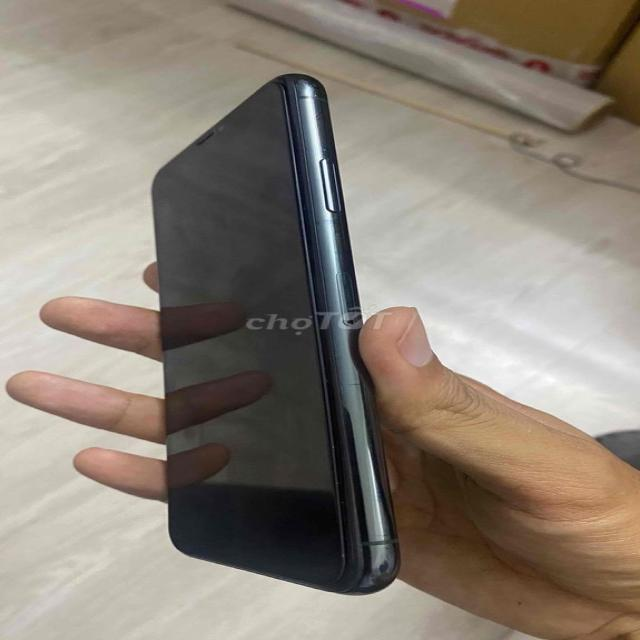gen_11: (140, 69, 409, 603)
